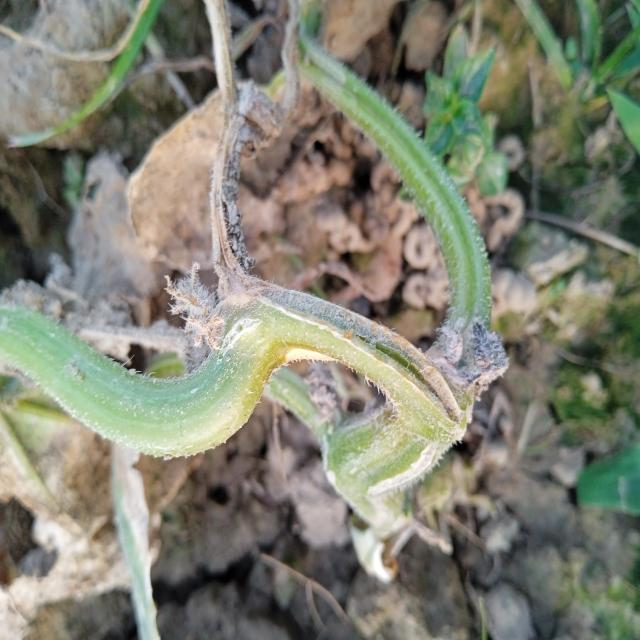cucumber_bacterial: (3, 264, 266, 471), (148, 36, 330, 314), (329, 245, 512, 519)
